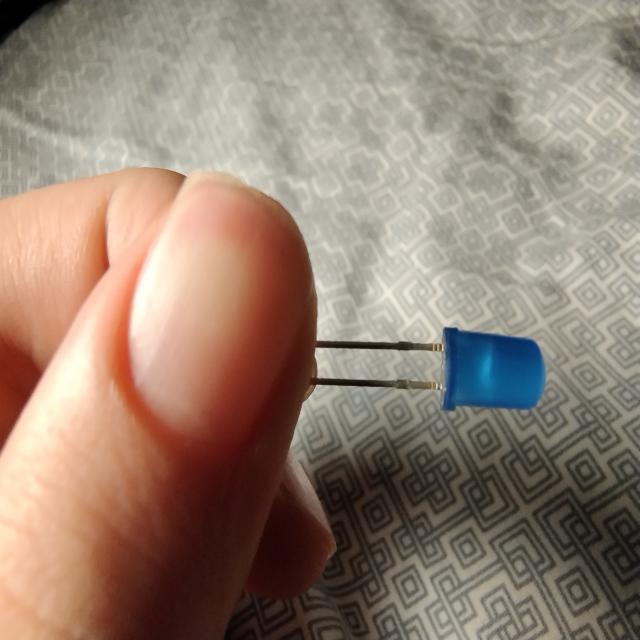blue_led: (318, 314, 549, 427)
